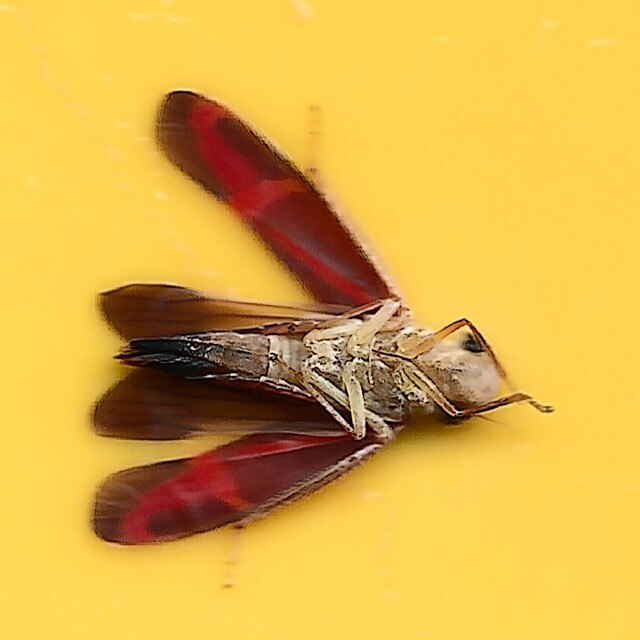Hemiptera: (84, 89, 556, 551)
